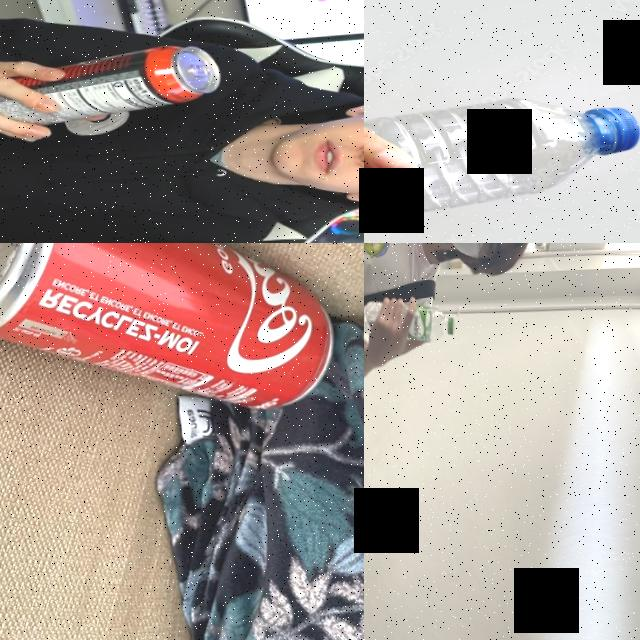bottle: (364, 85, 640, 243), (364, 295, 455, 345)
can: (0, 243, 338, 430), (0, 42, 225, 127)
